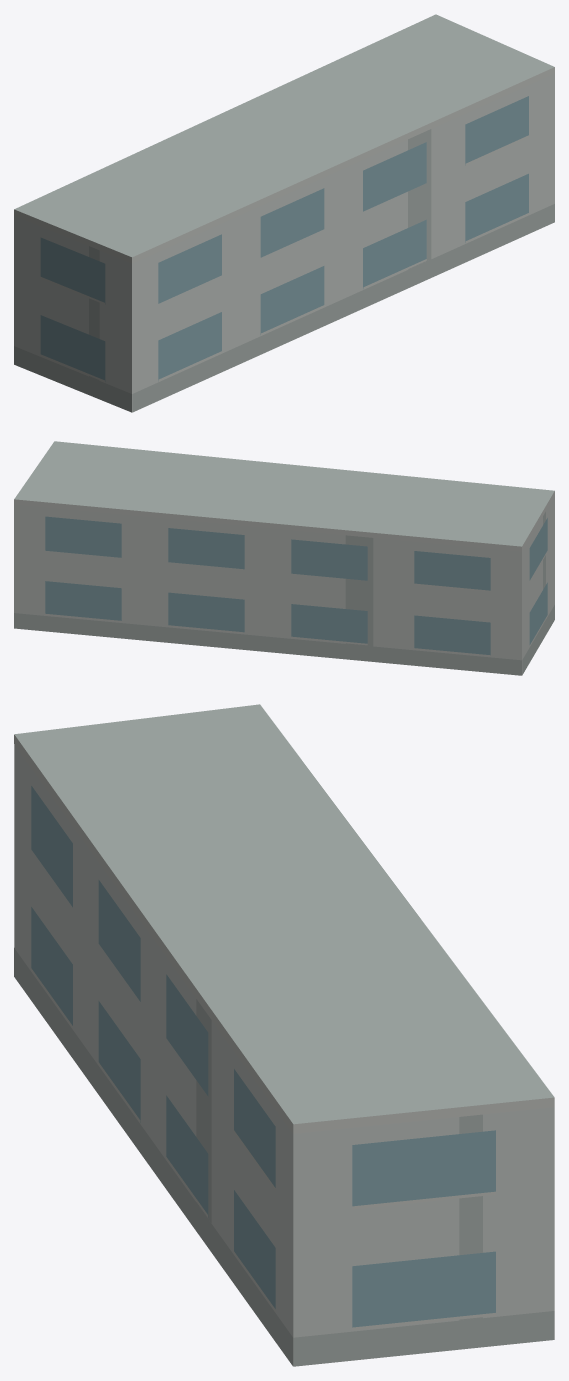
The model's file is survey-upis-32746265.glb.
3 renders of one model, top to bottom at view 1: azimuth 30°, elevation 25°; view 2: azimuth 150°, elevation 25°; view 3: azimuth 270°, elevation 25°, orthographic. The views are drawn at different scales.
Visible parts, largest first — view 1: survey-upis-32746265.tmp; view 2: survey-upis-32746265.tmp; view 3: survey-upis-32746265.tmp.
Boxes of the visible parts, x1,y1,x2,y2 form: survey-upis-32746265.tmp: (14, 14, 554, 412); survey-upis-32746265.tmp: (14, 441, 554, 675); survey-upis-32746265.tmp: (14, 704, 554, 1366).
Bounding box in the file's own units: 22.69 × 6.1 × 12.34.
